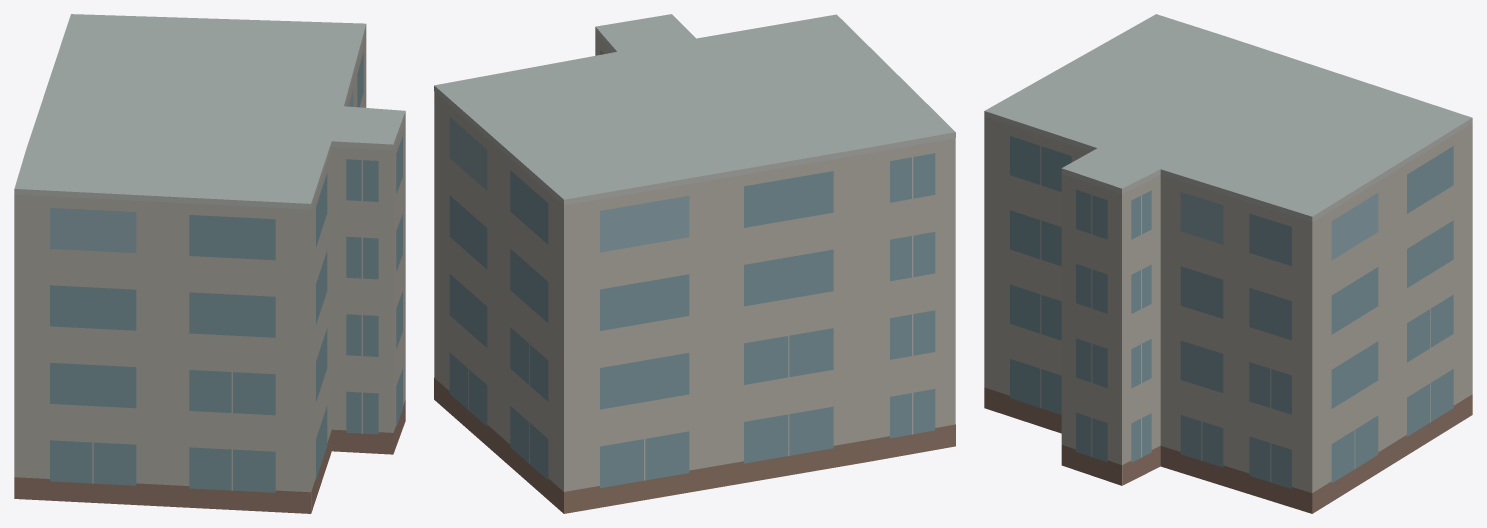
The model's file is survey-upis-32754414.glb.
3 views of the same model, side by side, from view 1: azimuth 30°, elevation 25°; view 2: azimuth 150°, elevation 25°; view 3: azimuth 270°, elevation 25° (orthographic). The views are drawn at different scales.
Visible parts, largest first — view 1: survey-upis-32754414.tmp; view 2: survey-upis-32754414.tmp; view 3: survey-upis-32754414.tmp.
Part boxes in pixels (x1,y1,x2,y2): survey-upis-32754414.tmp: (14, 14, 405, 513); survey-upis-32754414.tmp: (434, 14, 955, 513); survey-upis-32754414.tmp: (984, 14, 1472, 513).
Size of the model in its own units: 19.32 by 13.2 by 19.66.
